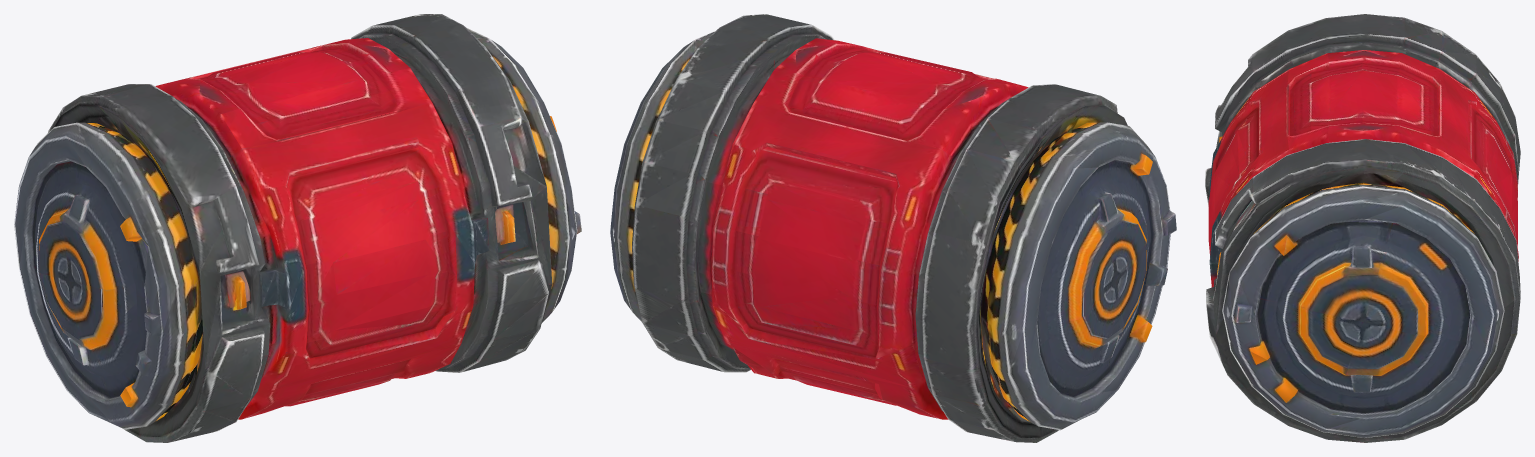
Rendered from explode_barrel_1.glb.
The picture shows the model from 3 angles, left to right: view 1: azimuth 30°, elevation 25°; view 2: azimuth 150°, elevation 25°; view 3: azimuth 270°, elevation 25°; orthographic projection. The views are drawn at different scales.
Visible parts, largest first — view 1: mesh_node; view 2: mesh_node; view 3: mesh_node.
Boxes of the visible parts, x1=… form: mesh_node: x1=14, y1=14, x2=581, y2=442; mesh_node: x1=610, y1=14, x2=1176, y2=442; mesh_node: x1=1205, y1=14, x2=1520, y2=442.
Size of the model in its own units: 1 by 0.6836 by 0.6894.
Materials: 1 (1 with a texture image).
